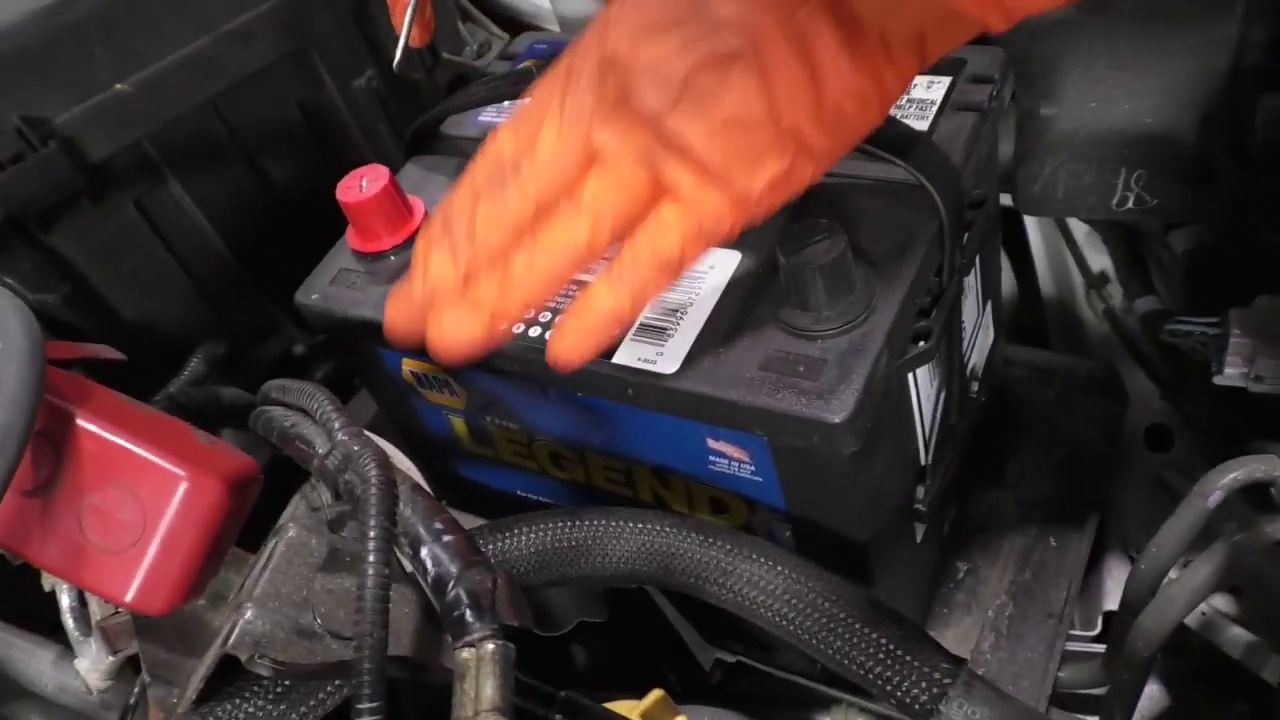battery: (307, 9, 994, 424)
pos_disconnected: (279, 123, 467, 274)
pos_touched: (309, 115, 523, 360)
